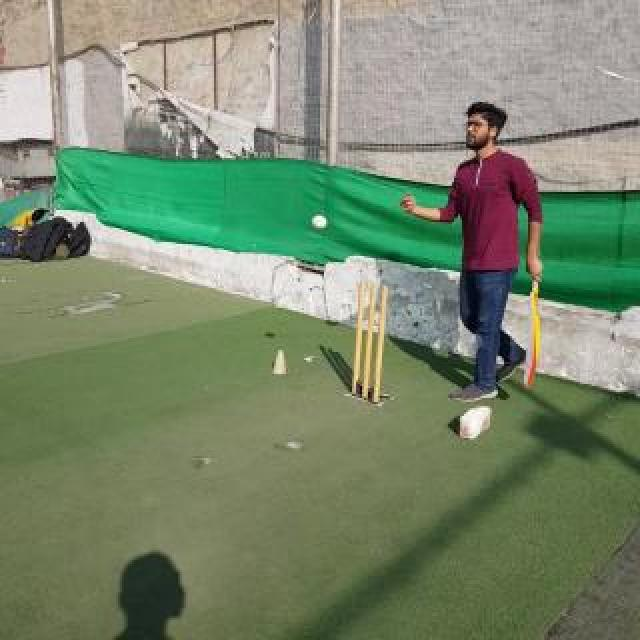ball: (312, 214, 328, 230)
bat: (524, 240, 542, 390)
